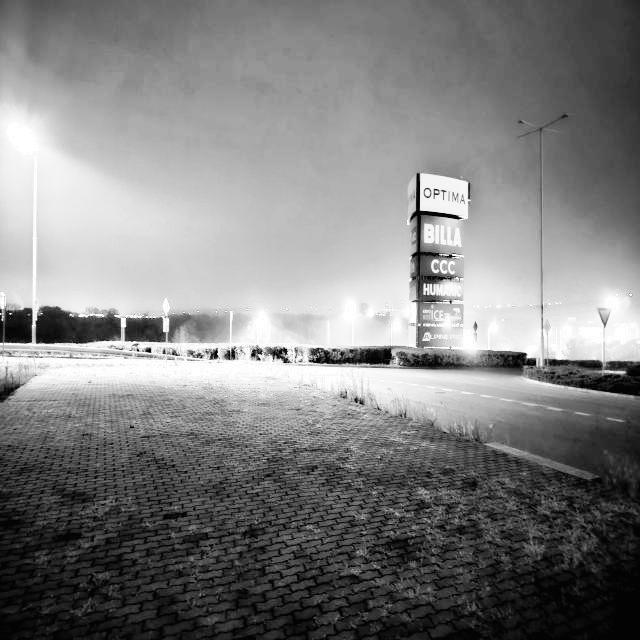Light: (517, 112, 569, 366), (11, 119, 44, 348), (561, 317, 578, 355), (345, 299, 358, 345), (387, 315, 403, 346), (254, 310, 268, 345), (485, 318, 498, 349)
